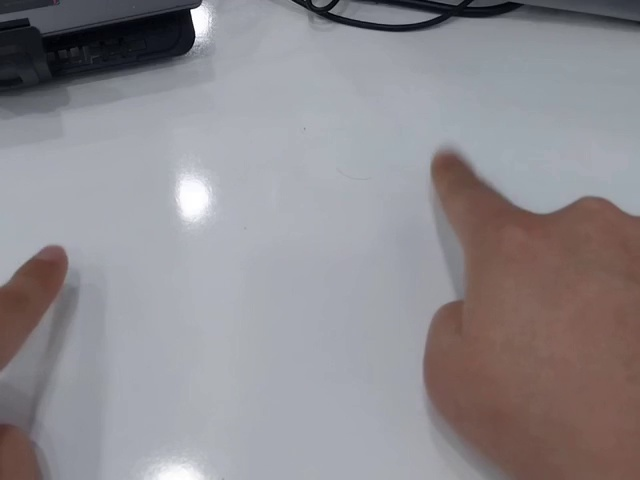fingers: (21, 244, 71, 298), (430, 147, 475, 190)
